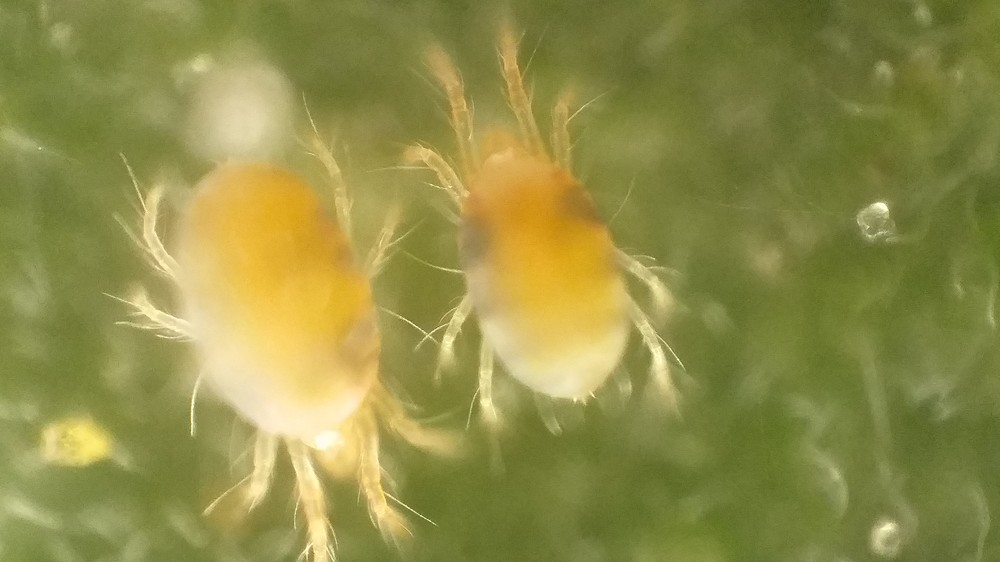Aracnido Rojo: (114, 124, 453, 557), (401, 28, 697, 455)
